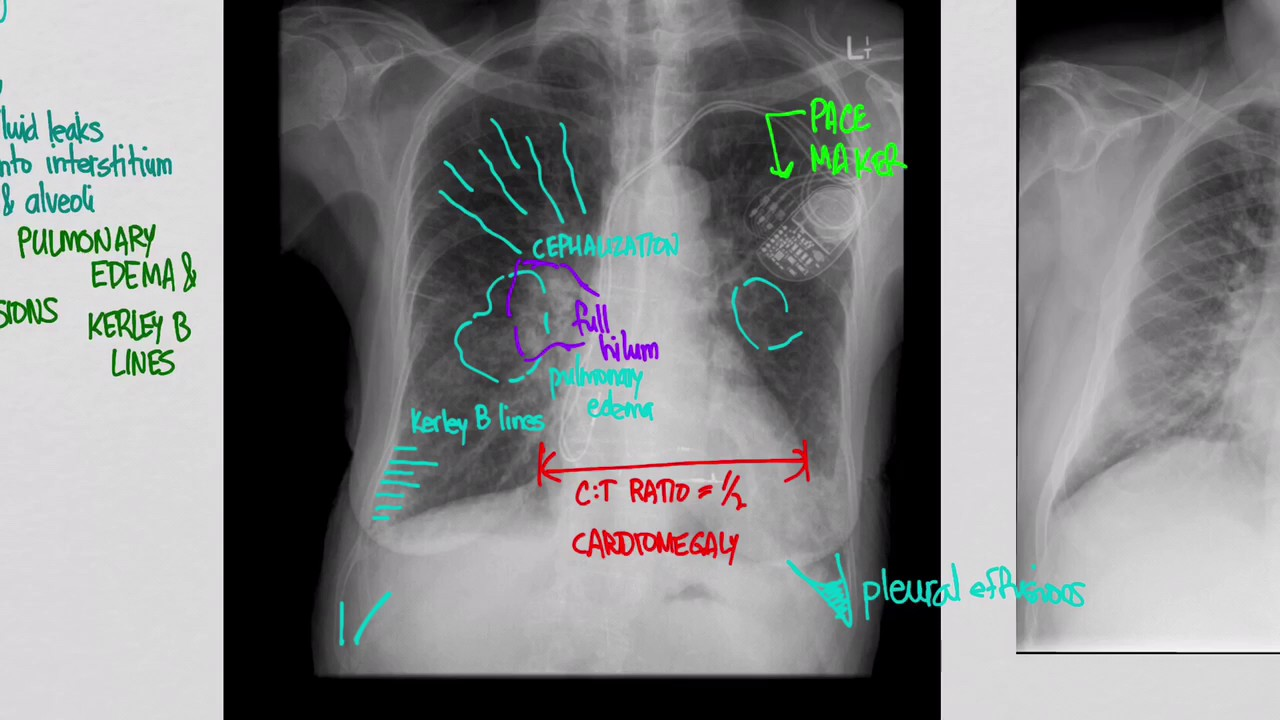telestration: (1, 106, 203, 382), (428, 112, 593, 250), (563, 480, 755, 569), (527, 436, 818, 488), (444, 270, 570, 389), (860, 568, 1086, 621), (809, 96, 903, 179), (545, 359, 657, 420), (566, 295, 666, 363), (725, 278, 813, 355), (778, 551, 860, 632), (365, 442, 438, 527), (408, 407, 550, 440), (531, 235, 685, 262), (329, 588, 395, 648), (759, 108, 807, 179)
